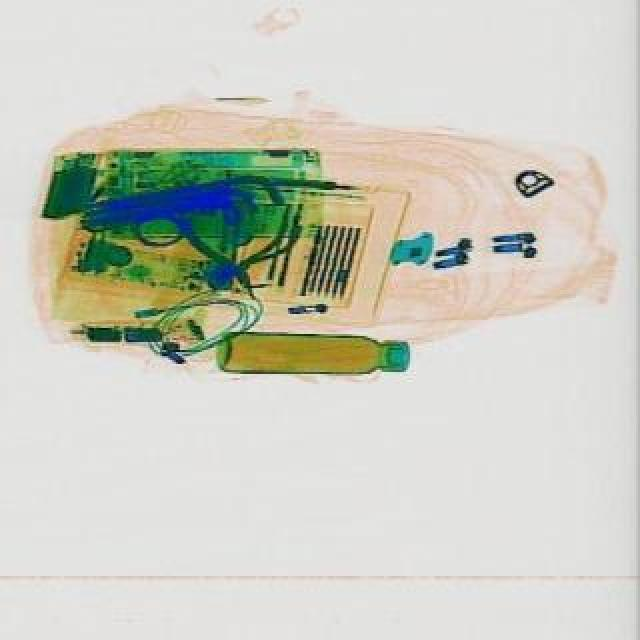wrench: (180, 200, 294, 304)
